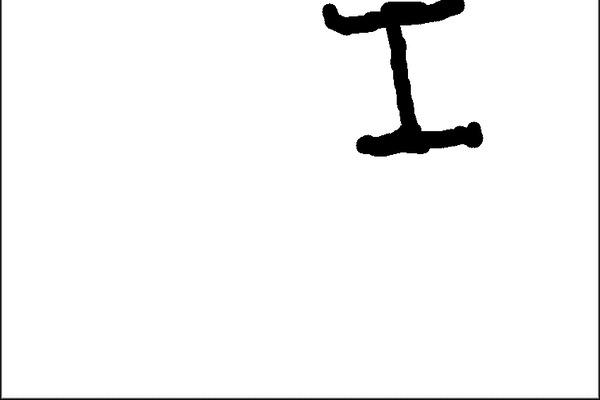i: (309, 2, 495, 157)
